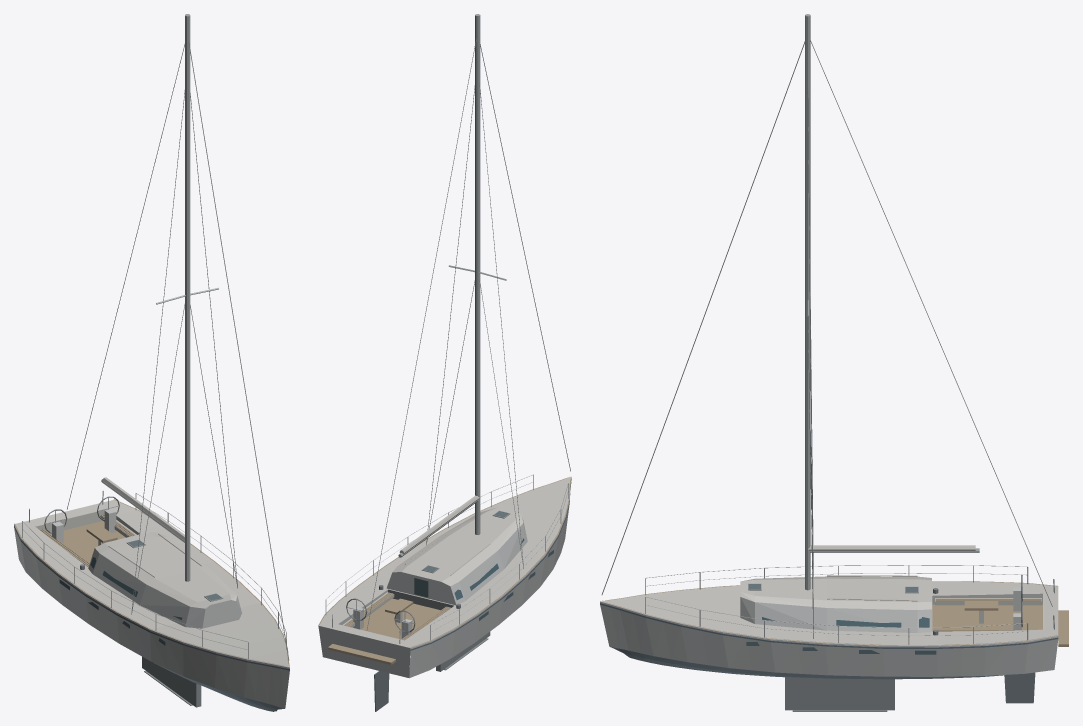
File: kjp_oceanis_48.glb
The picture shows the model from 3 angles, left to right: view 1: azimuth 30°, elevation 25°; view 2: azimuth 150°, elevation 25°; view 3: azimuth 270°, elevation 25°; orthographic projection. The views are drawn at different scales.
Parts seen in each view (by area): view 1: Beneteau Oceanis 48; view 2: Beneteau Oceanis 48; view 3: Beneteau Oceanis 48.
Part boxes in pixels (x1,y1,x2,y2): Beneteau Oceanis 48: (14, 14, 289, 711); Beneteau Oceanis 48: (318, 14, 571, 711); Beneteau Oceanis 48: (600, 14, 1068, 711).
Bounding box in the file's own units: 4.74 × 23.86 × 14.6.
